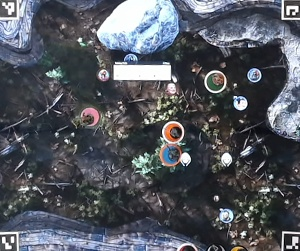green: (204, 70, 227, 93)
light_blue_orange: (159, 144, 182, 167)
orange: (160, 121, 183, 144)
pink_green: (77, 105, 100, 128)
